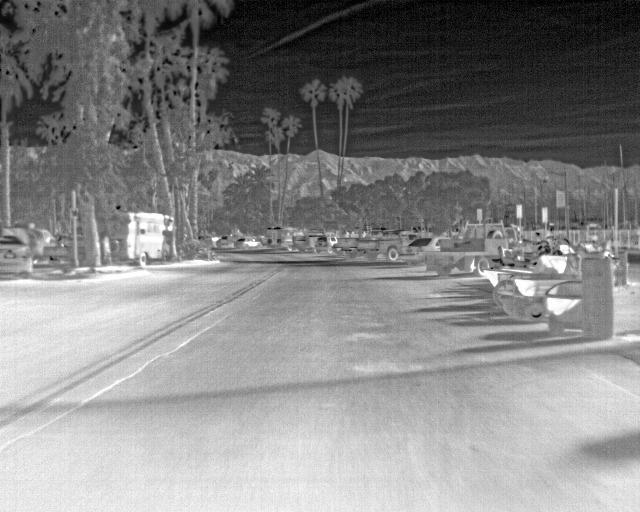car: (437, 221, 505, 274), (389, 235, 447, 263), (0, 234, 36, 278), (371, 235, 397, 257), (352, 235, 378, 254), (314, 234, 340, 252), (290, 232, 313, 251), (333, 235, 355, 253), (213, 233, 236, 249), (238, 235, 262, 250)
